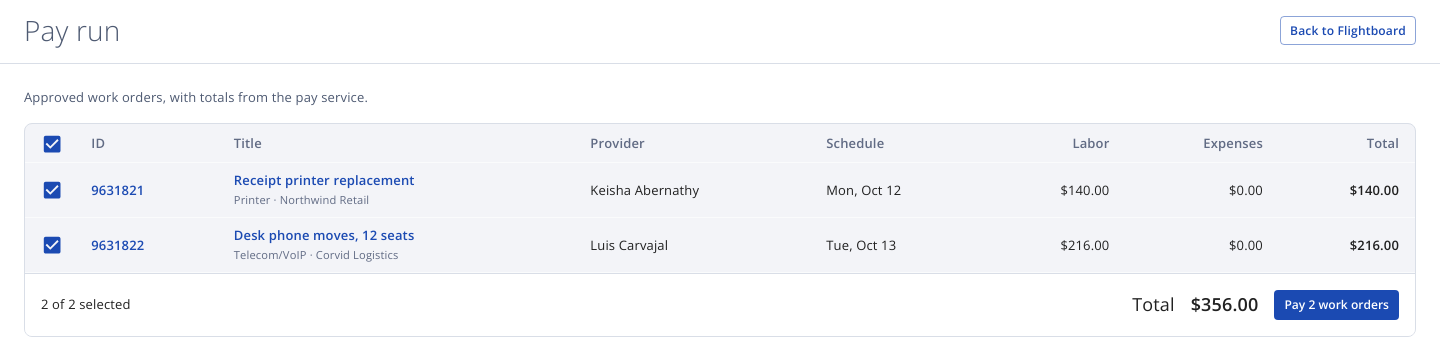
Test case: PayRunPage › updates the selected total and selects or clears all rows without requoting
Check: the text "$356.00" is shown, box 1191,292 -> 1258,318
Click the checkbox named "Select WO 9631822" at x=52, y=245, box 41,234 -> 63,257
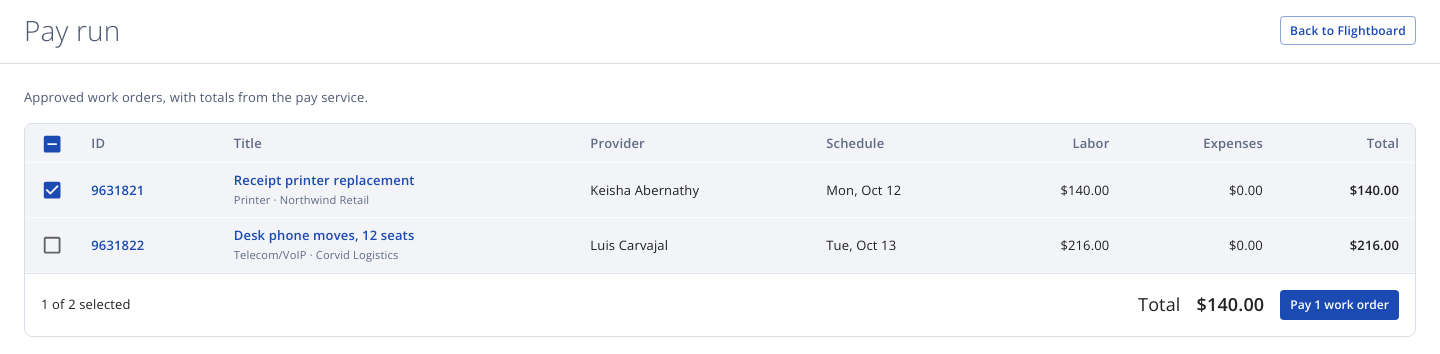
Check: the text "$140.00" is shown 3 times, box 990,163 -> 1125,218; 1279,163 -> 1415,218; 1196,292 -> 1264,318
Check: the text "1 of 2 selected" is shown, box 41,295 -> 131,315
Check: the text "$356.00" is gone
Click the checkbox named "Select all" at x=52, y=144, box 41,133 -> 63,155
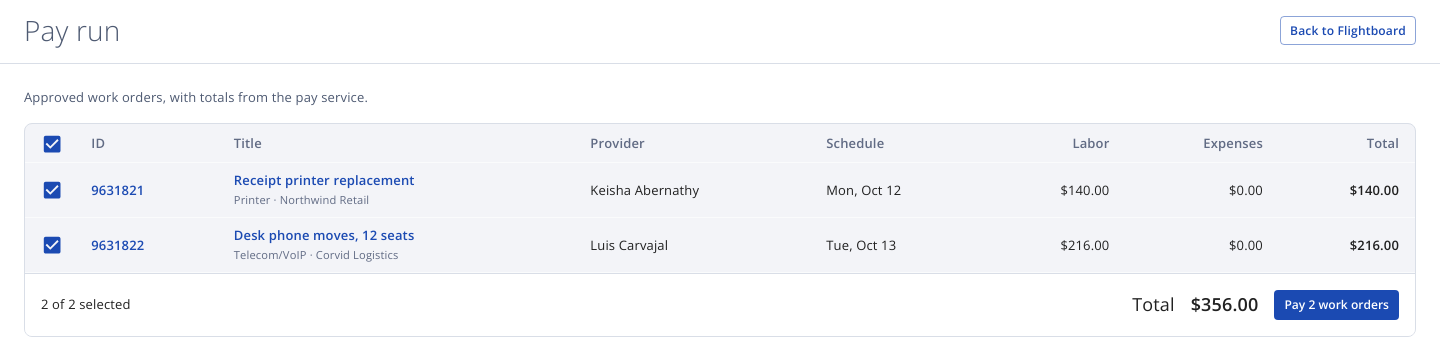
Check: the text "2 of 2 selected" is shown, box 41,295 -> 131,315
Check: the text "$356.00" is shown, box 1191,292 -> 1258,318
Click the checkbox named "Select all" at x=52, y=144, box 41,133 -> 63,155
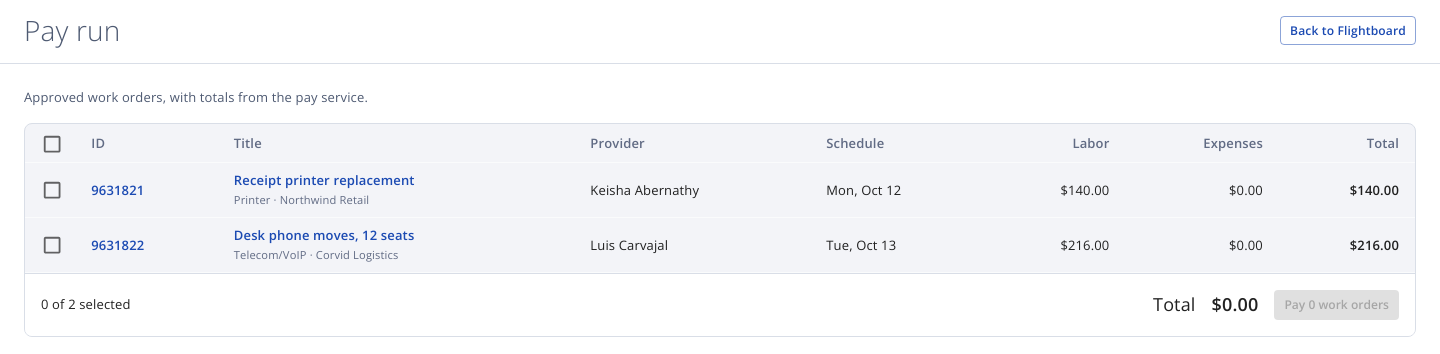
Check: the checkbox named "Select all" is not checked, box 41,133 -> 63,155
Check: the text "0 of 2 selected" is shown, box 41,295 -> 131,315
Check: the checkbox named "Select WO 9631821" is not checked, box 41,179 -> 63,202
